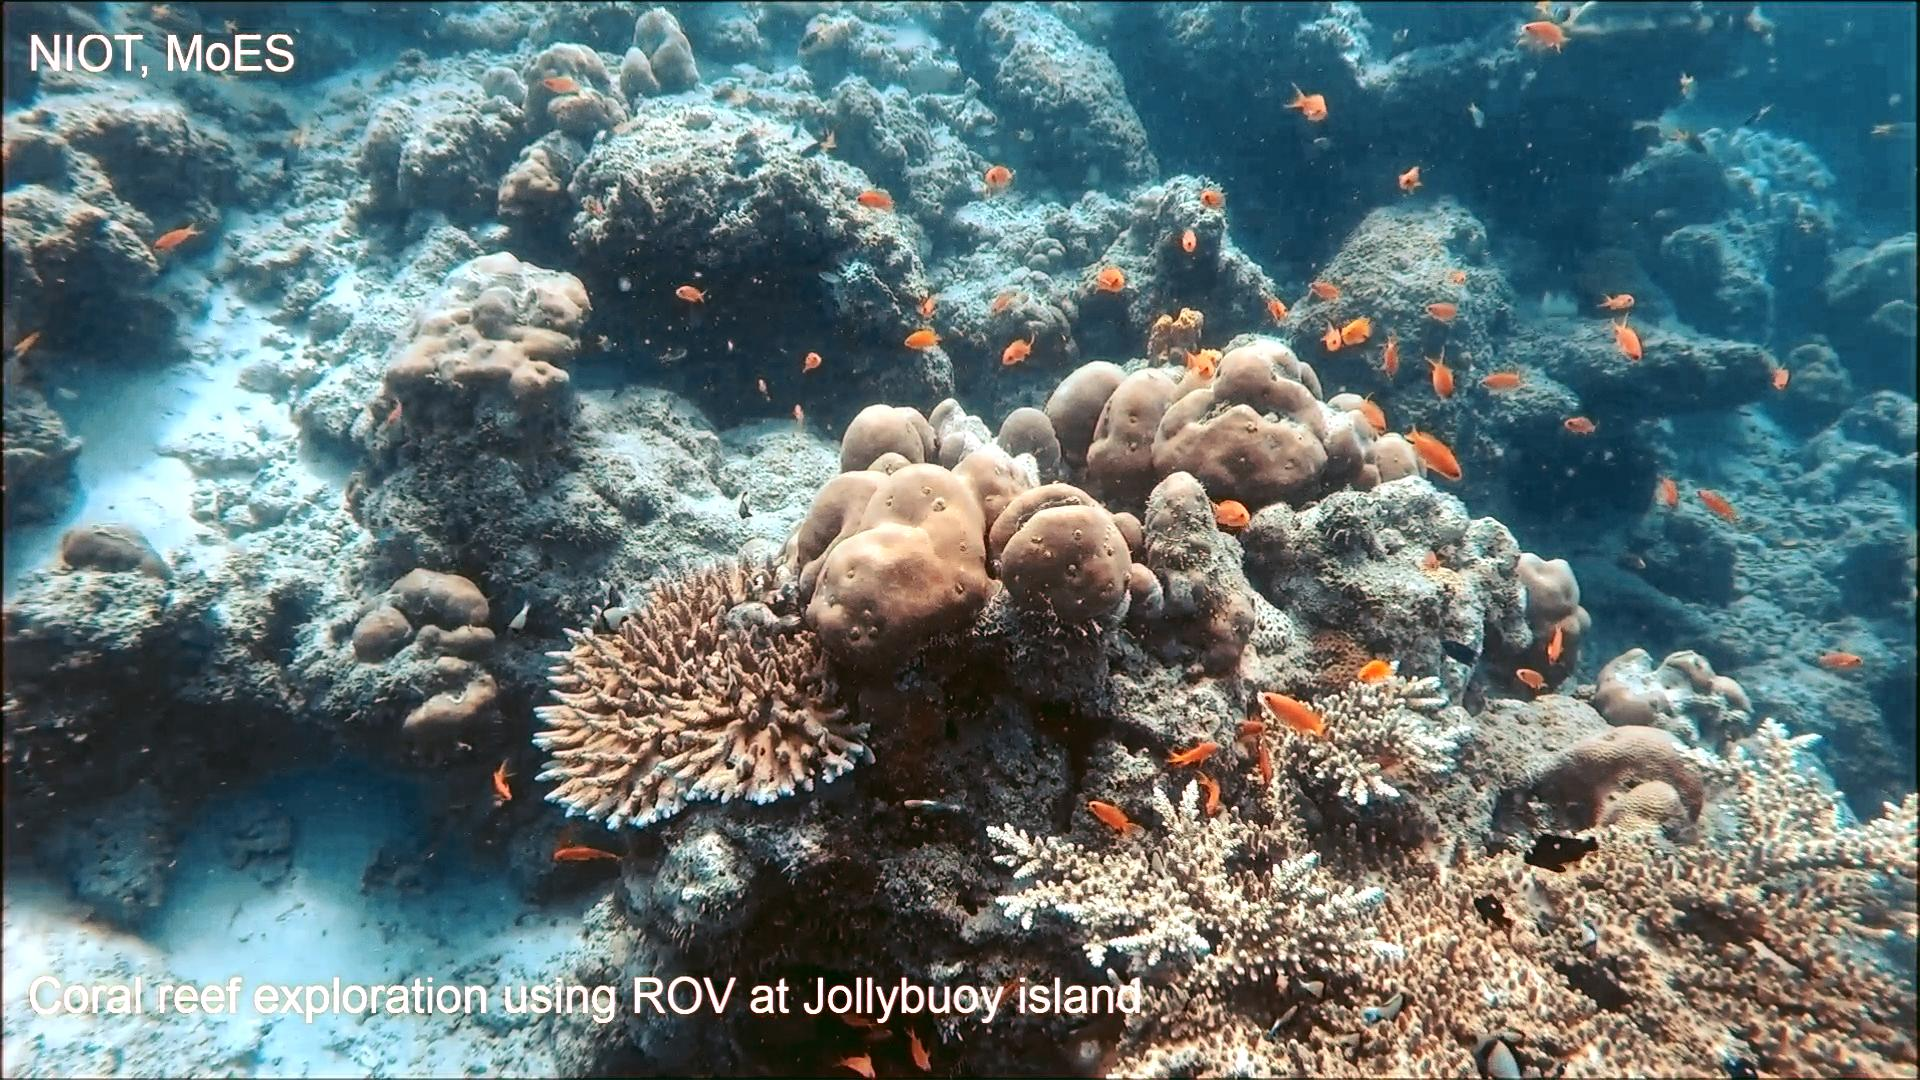Porites-Porites pukoensis: (766, 393, 1141, 684), (1033, 331, 1429, 517)
